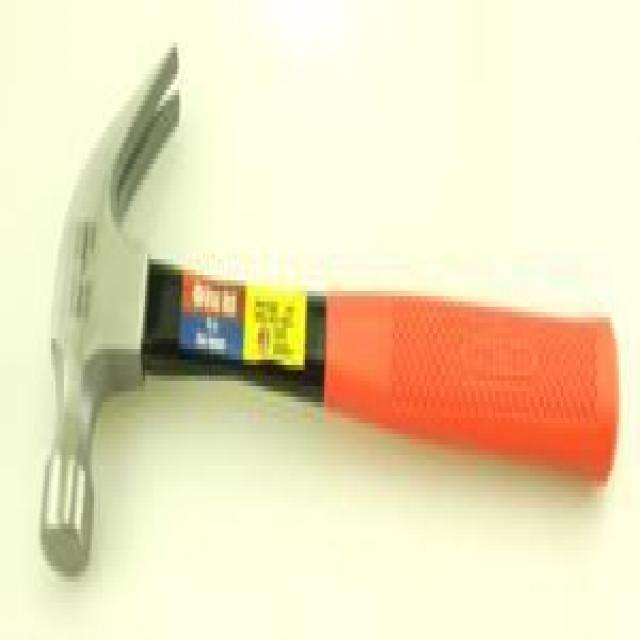hammer: (15, 19, 624, 626)
